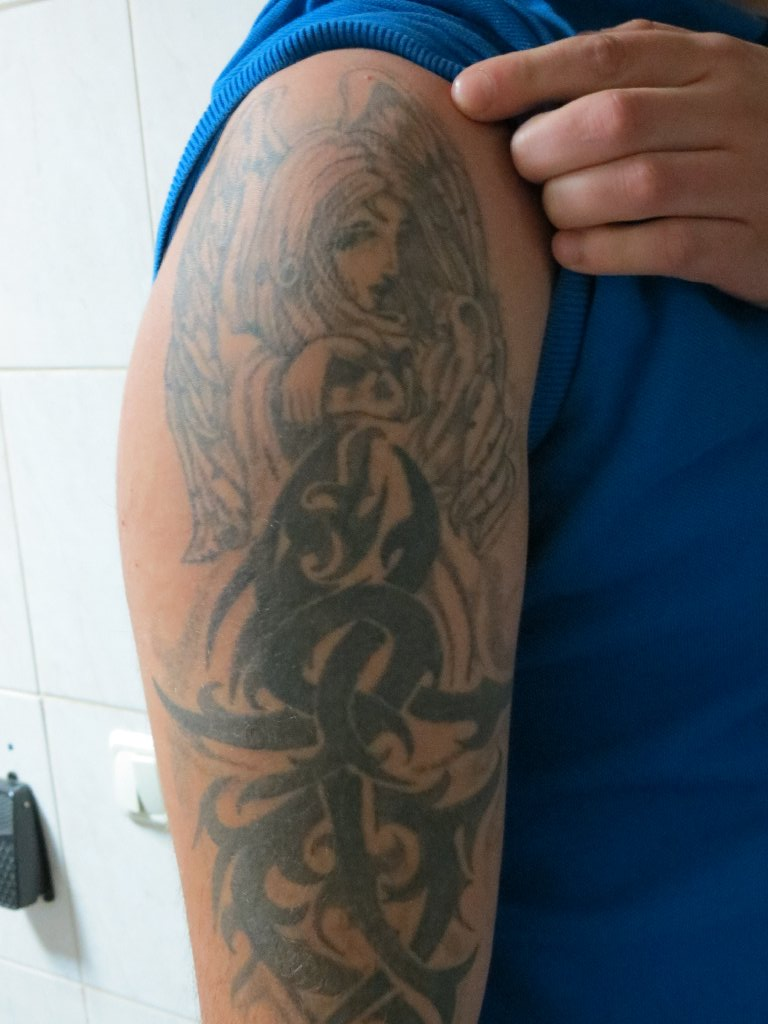tatu1_angel: (221, 126, 498, 422)
